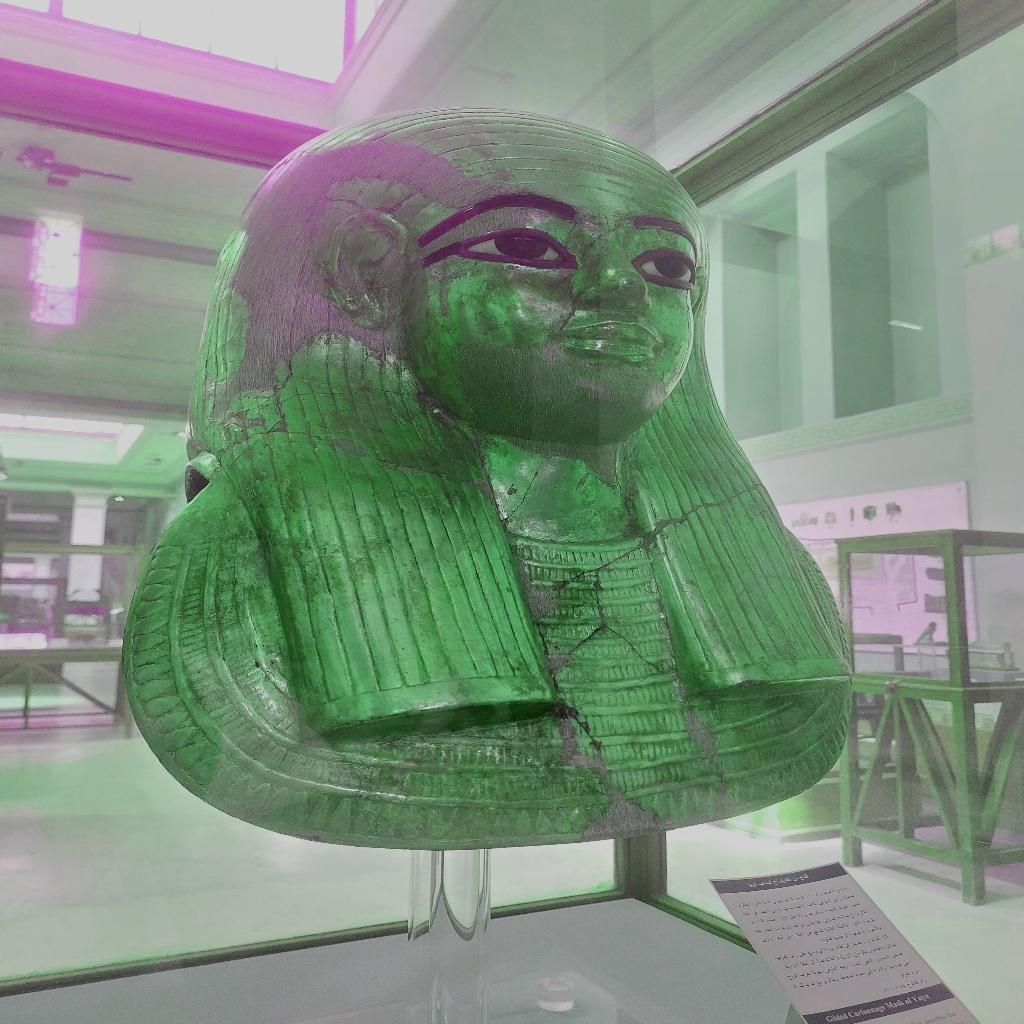Mask of Yuya: (120, 106, 856, 852)
